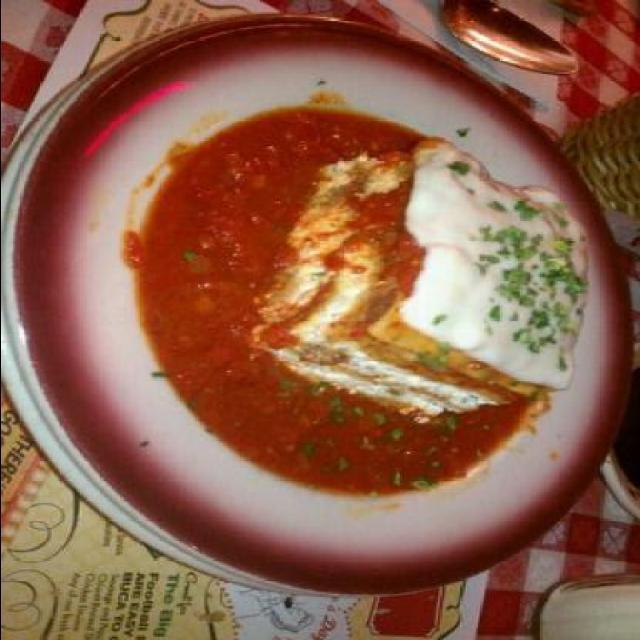Lasagna: (216, 124, 610, 433)
